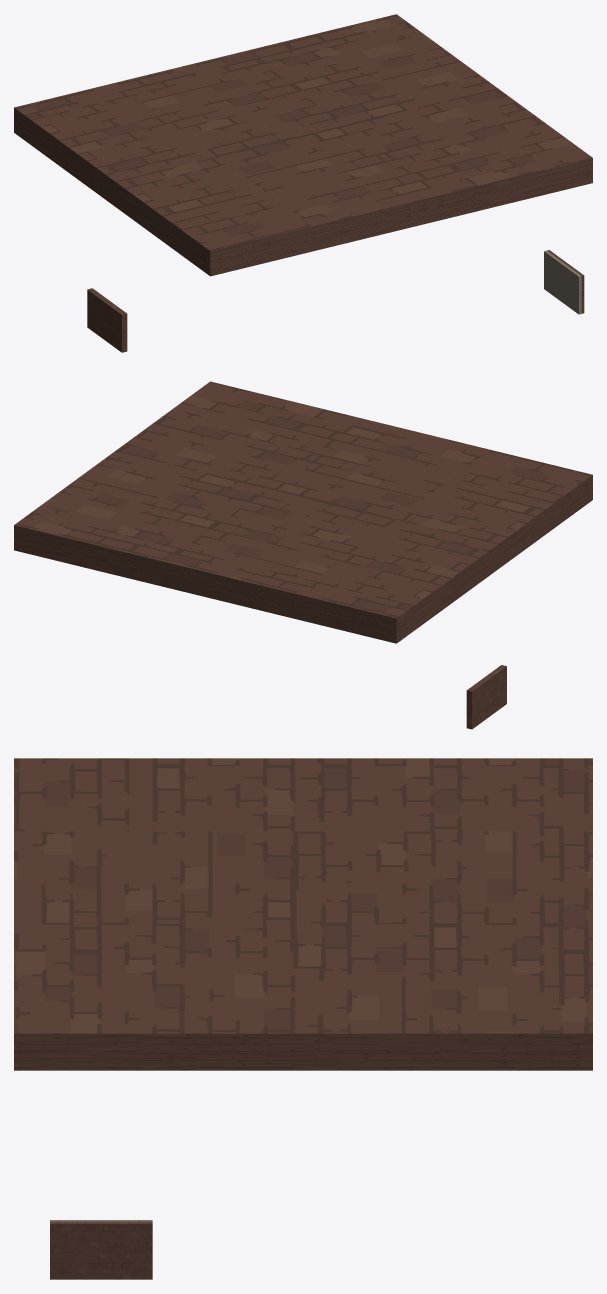
Rendered from Combined Mesh (root_ scene) 8.obj.
3 views of the same model, one above another, from view 1: azimuth 30°, elevation 25°; view 2: azimuth 150°, elevation 25°; view 3: azimuth 270°, elevation 25° (orthographic). The views are drawn at different scales.
Visible parts, largest first — view 1: Combined Mesh (root: scene) 8_2, Combined Mesh (root: scene) 8_0, Combined Mesh (root: scene) 8_4; view 2: Combined Mesh (root: scene) 8_2, Combined Mesh (root: scene) 8_4; view 3: Combined Mesh (root: scene) 8_2, Combined Mesh (root: scene) 8_1.
Boxes of the visible parts, x1,y1,x2,y2 form: Combined Mesh (root: scene) 8_2: [14, 14, 592, 276]; Combined Mesh (root: scene) 8_0: [544, 250, 581, 314]; Combined Mesh (root: scene) 8_4: [87, 289, 124, 352]; Combined Mesh (root: scene) 8_2: [14, 381, 592, 643]; Combined Mesh (root: scene) 8_4: [469, 665, 506, 729]; Combined Mesh (root: scene) 8_2: [14, 758, 592, 1070]; Combined Mesh (root: scene) 8_1: [50, 1221, 152, 1279].
Size of the model in its own units: 16.07 by 6.55 by 14.12.
2 materials, 2 textured.
